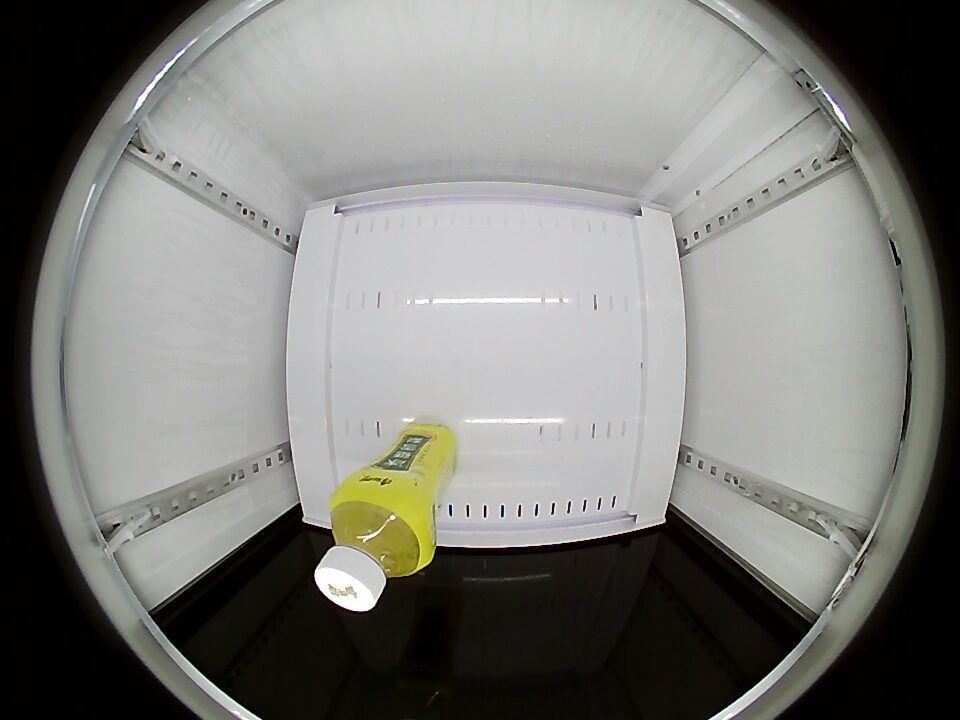bingtangxueli: (315, 481, 436, 613)
